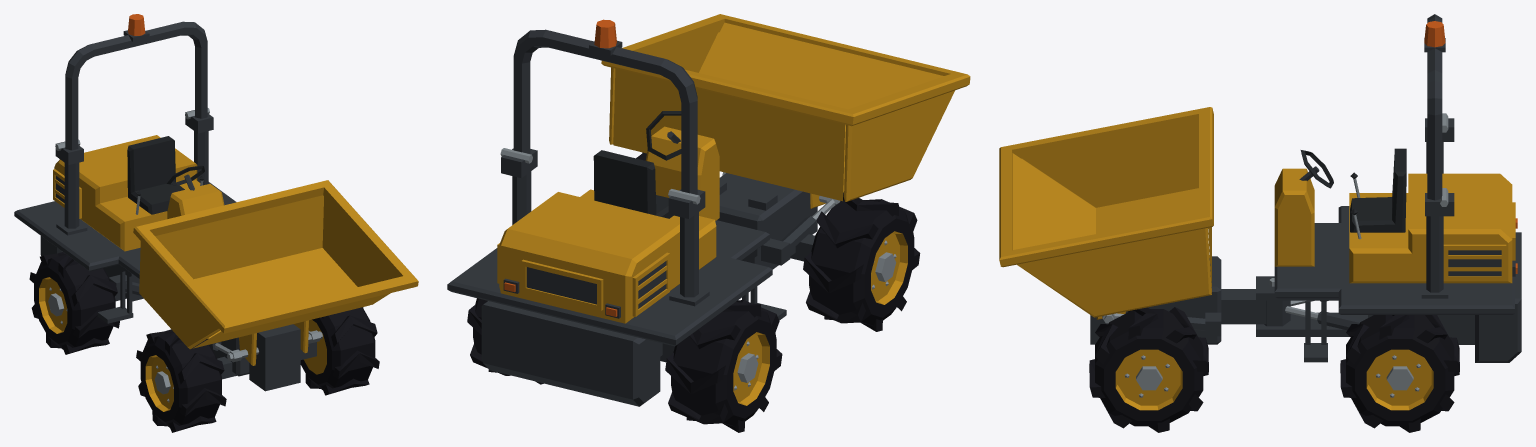
Rendered from rigid-site-dumper.glb.
The picture shows the model from 3 angles, left to right: view 1: azimuth 30°, elevation 25°; view 2: azimuth 150°, elevation 25°; view 3: azimuth 270°, elevation 25°; orthographic projection. The views are drawn at different scales.
Parts seen in each view (by area): view 1: rear-unit; view 2: rear-unit; view 3: rear-unit.
Boxes of the visible parts, bbox=[...] form: rear-unit: bbox=[14, 14, 418, 432]; rear-unit: bbox=[447, 14, 970, 432]; rear-unit: bbox=[999, 14, 1521, 432].
Bounding box in the file's own units: 2 × 2.92 × 3.91.
